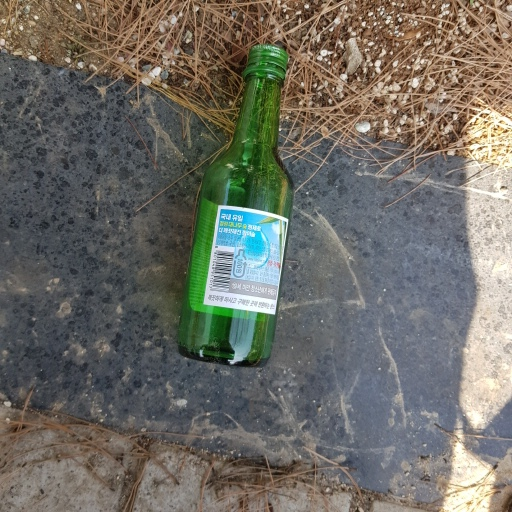Glass_0: (172, 41, 301, 370)
